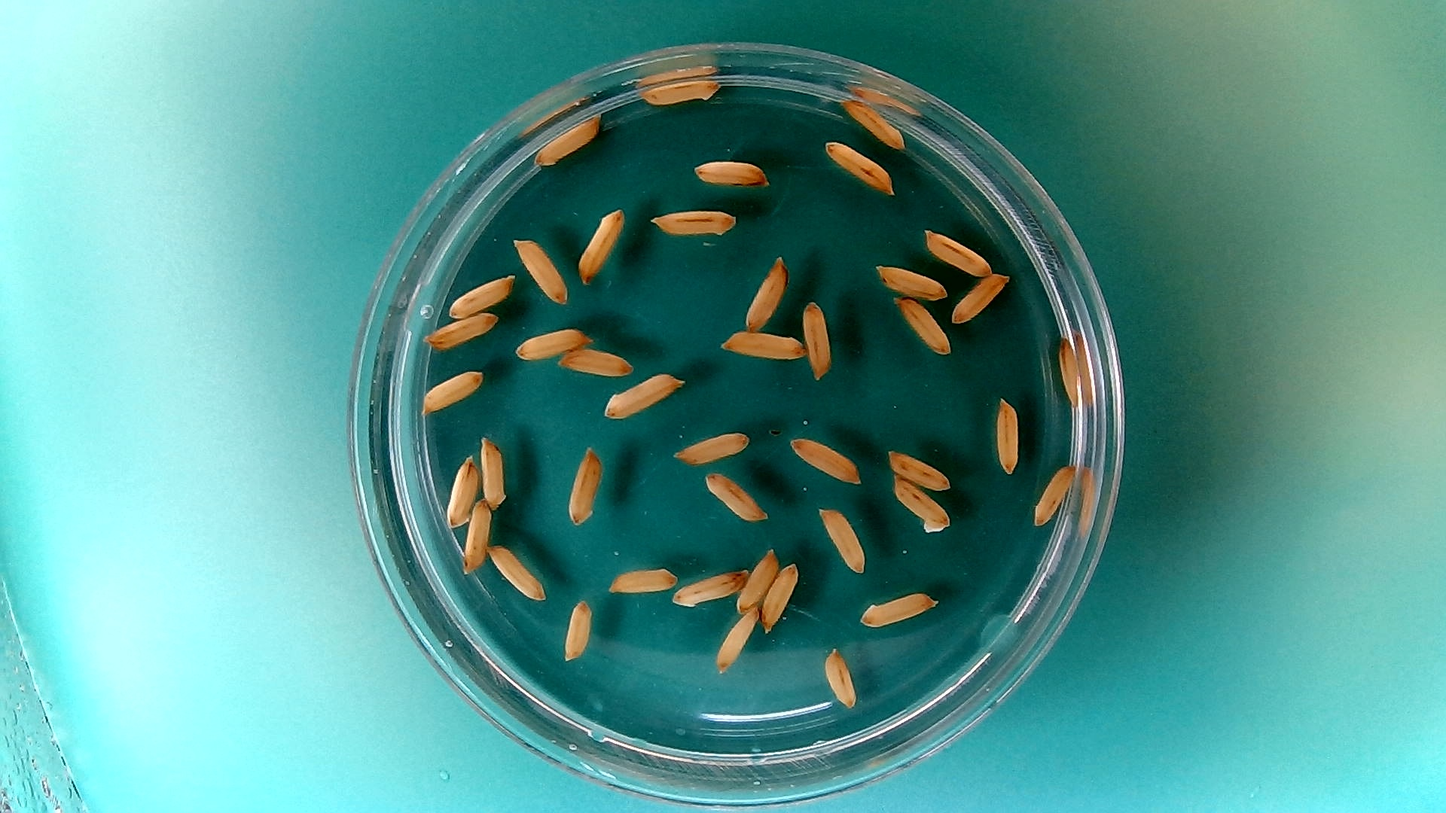no: (602, 369, 687, 419), (822, 138, 896, 195), (575, 203, 628, 282), (511, 235, 570, 304), (532, 110, 602, 166), (742, 253, 791, 332), (837, 94, 906, 149), (700, 468, 769, 522), (890, 473, 951, 534), (486, 542, 548, 602), (788, 435, 862, 485), (893, 294, 952, 354), (817, 504, 866, 575), (923, 227, 993, 276), (564, 443, 605, 526), (446, 272, 517, 319), (420, 367, 487, 416), (857, 588, 938, 628), (670, 566, 749, 607), (712, 607, 760, 674), (422, 309, 499, 350), (758, 559, 801, 632), (949, 272, 1009, 324), (734, 544, 779, 613), (718, 327, 806, 362), (649, 204, 738, 238), (886, 447, 953, 492), (1031, 461, 1076, 527), (514, 323, 594, 360), (874, 261, 949, 300), (672, 428, 752, 464), (442, 452, 479, 529), (801, 297, 834, 382), (458, 495, 492, 574), (638, 78, 722, 108), (557, 345, 635, 377), (691, 156, 770, 187), (479, 433, 509, 510), (822, 645, 858, 709), (561, 596, 595, 663), (994, 394, 1021, 476), (606, 565, 677, 595), (1057, 333, 1082, 406)
